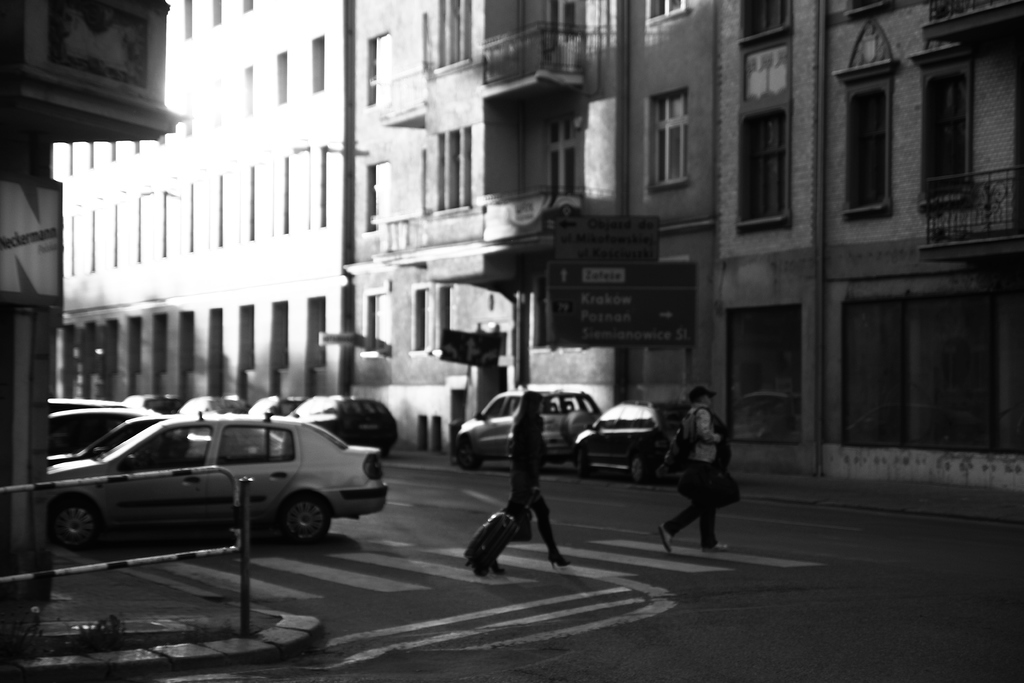Car: (46, 391, 400, 547), (567, 394, 728, 474), (455, 388, 612, 466)
